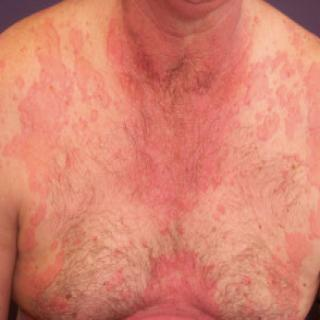urticaria: (148, 246, 214, 312)
